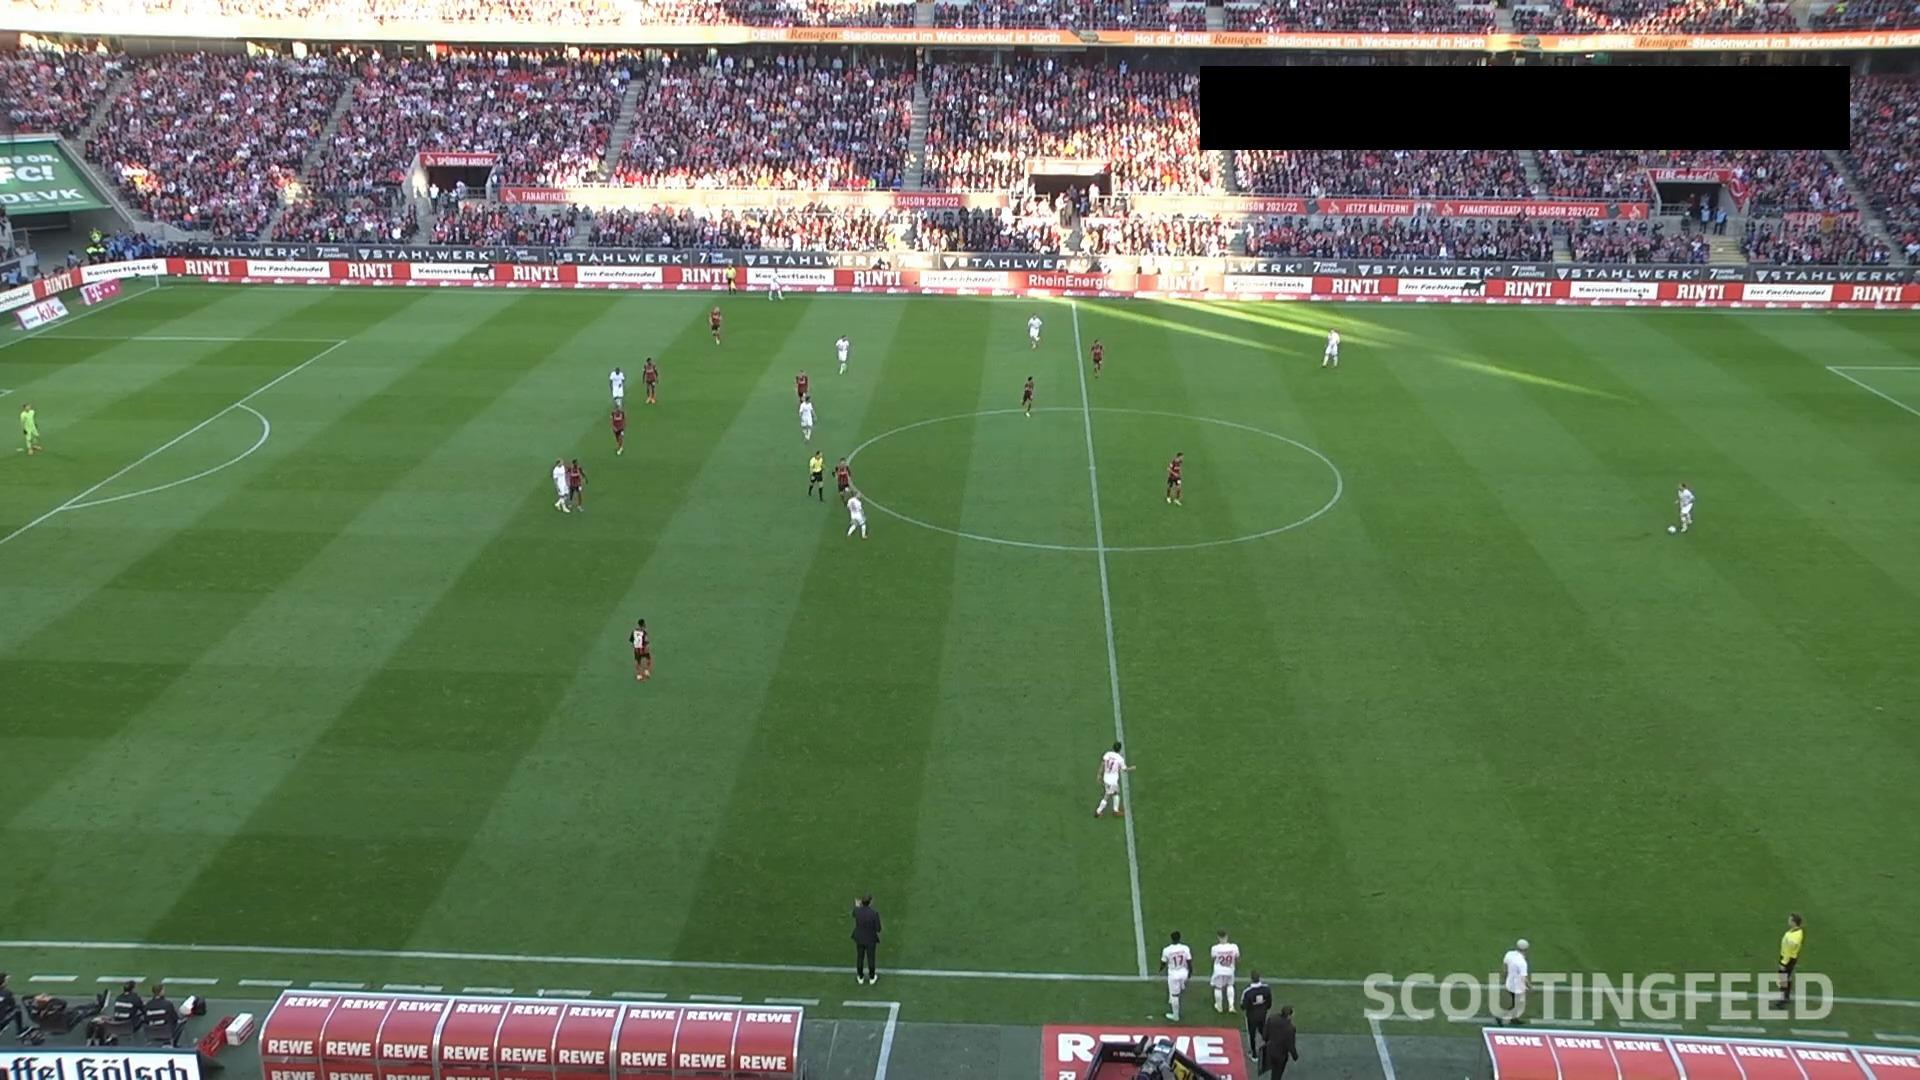ball: (1667, 524, 1677, 535)
